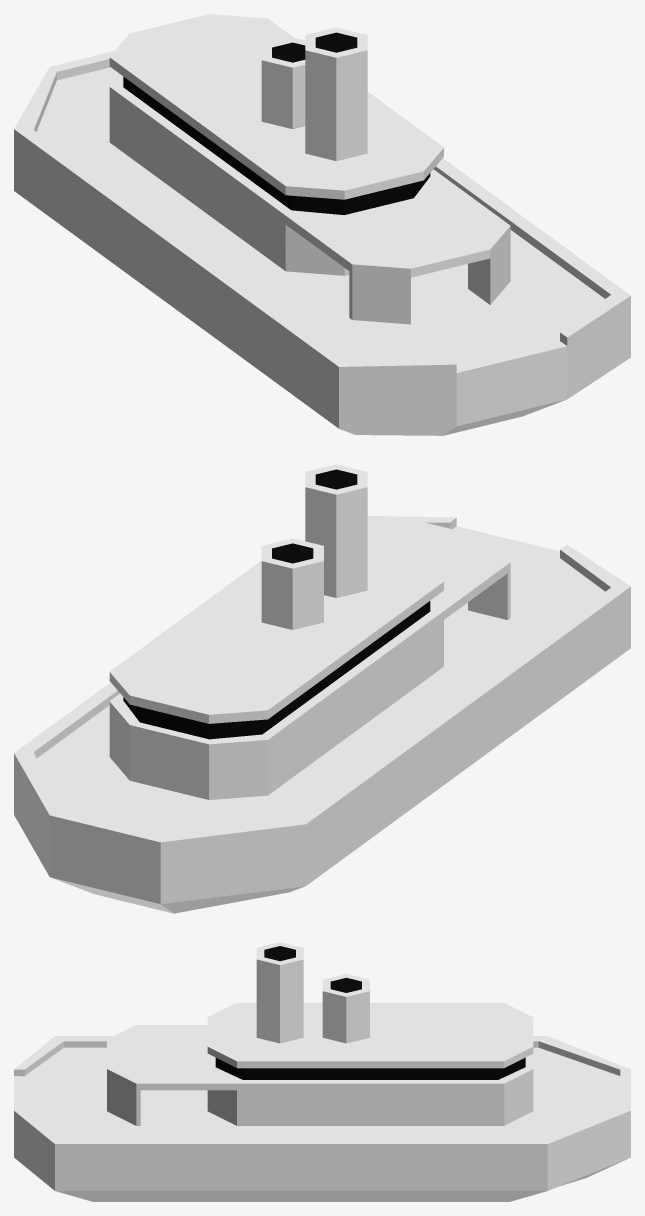
Rendered from Ship.fbx.
3 renders of one model, top to bottom at view 1: azimuth 30°, elevation 25°; view 2: azimuth 150°, elevation 25°; view 3: azimuth 270°, elevation 25°, orthographic. The views are drawn at different scales.
Parts seen in each view (by area): view 1: Ship, Shiphouse, ShipRailing, Shipcover, ShipPilliar2, ShipPillar; view 2: Ship, Shiphouse, ShipRailing, Shipcover, ShipPilliar2; view 3: Ship, Shiphouse, ShipRailing, Shipcover, ShipPillar.
Boxes of the visible parts, bbox=[...] form: Ship: bbox=[14, 67, 630, 435]; Shiphouse: bbox=[109, 14, 443, 275]; ShipRailing: bbox=[14, 51, 630, 375]; Shipcover: bbox=[285, 177, 510, 277]; ShipPilliar2: bbox=[349, 271, 410, 324]; ShipPillar: bbox=[468, 235, 510, 304]; Ship: bbox=[14, 526, 630, 913]; Shiphouse: bbox=[109, 464, 443, 799]; ShipRailing: bbox=[14, 515, 630, 850]; Shipcover: bbox=[367, 519, 510, 619]; ShipPilliar2: bbox=[468, 571, 510, 619]; Ship: bbox=[14, 1047, 630, 1201]; Shiphouse: bbox=[207, 942, 533, 1125]; ShipRailing: bbox=[14, 1036, 630, 1150]; Shipcover: bbox=[107, 1025, 236, 1090]; ShipPillar: bbox=[107, 1076, 140, 1125].
Bounding box in the file's own units: 2453 × 2218 × 5919.
1 material, 1 textured.
